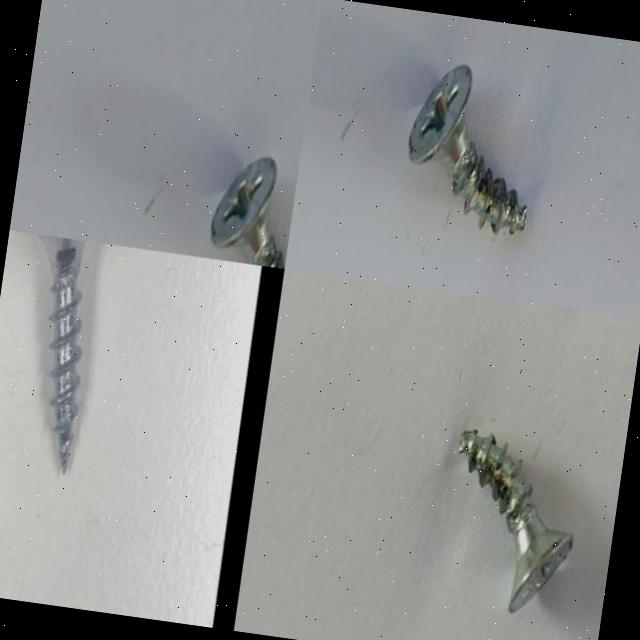Screw: (459, 429, 573, 612), (409, 64, 527, 235), (39, 235, 86, 473), (212, 157, 285, 269)
